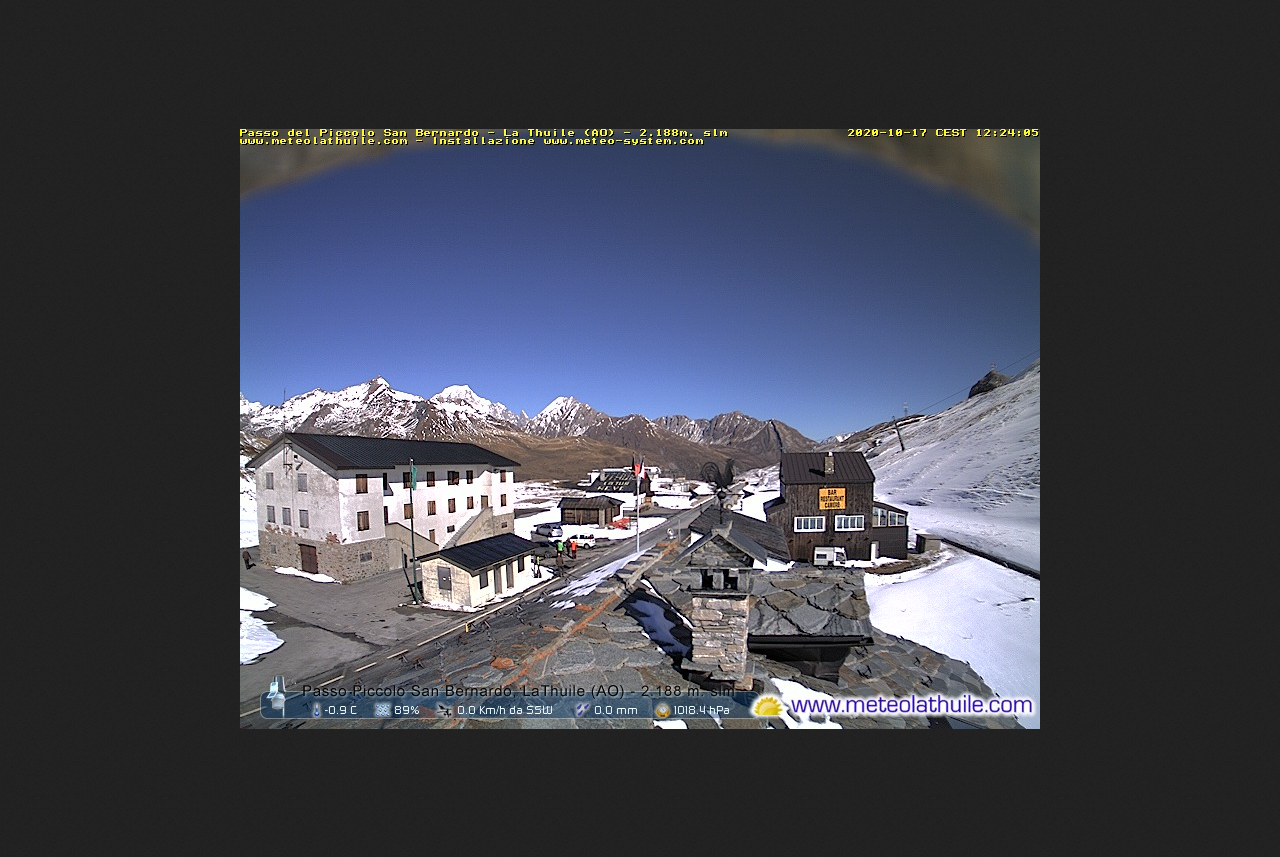no: (408, 461, 420, 492), (630, 453, 638, 475), (642, 460, 648, 478)
